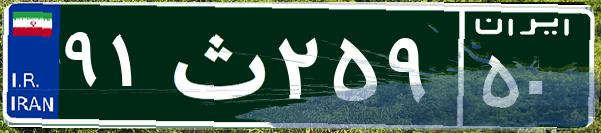0: (525, 38, 570, 115)
1: (110, 28, 158, 105)
2: (273, 28, 330, 110)
5: (330, 28, 385, 110), (475, 38, 525, 113)
9: (385, 28, 445, 110), (57, 26, 110, 107)
ث: (158, 15, 273, 115)
